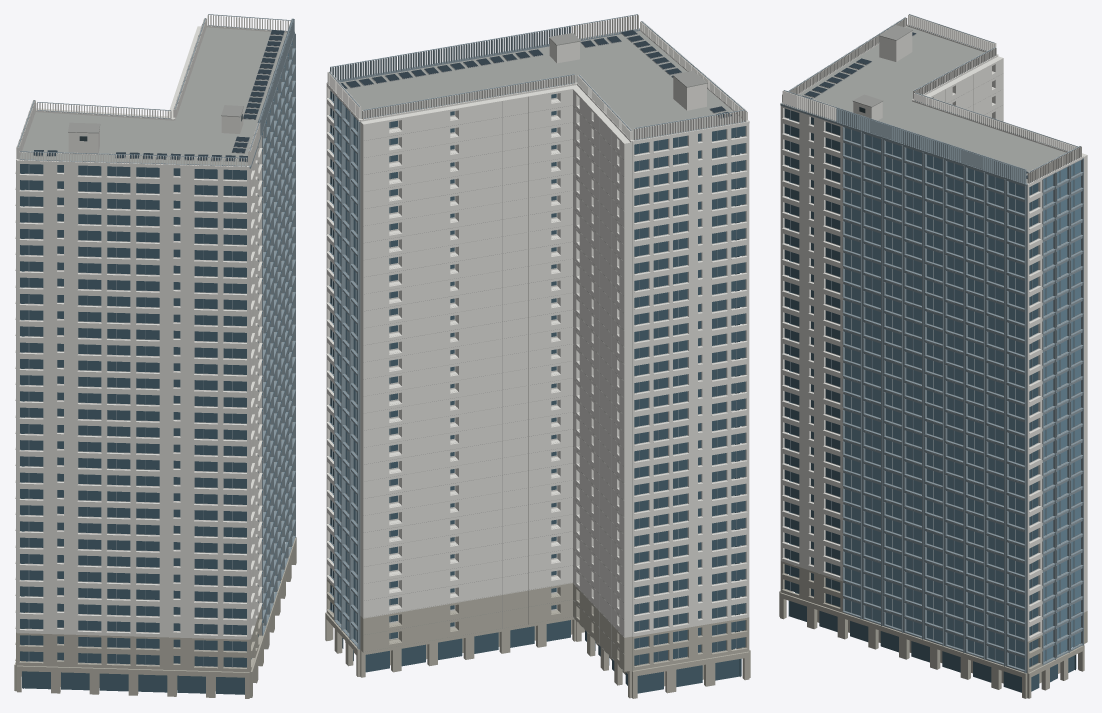
Rendered from bespoke-maple-xi-201.glb.
3 views of the same model, side by side, from view 1: azimuth 30°, elevation 25°; view 2: azimuth 150°, elevation 25°; view 3: azimuth 270°, elevation 25° (orthographic). The views are drawn at different scales.
Visible parts, largest first — view 1: Maple201_numbered_plan_inset_body, Maple201_e0_end_glass, Maple201_e0_end_unequal_sash, Maple201_numbered_plan_roof, Maple201_recessed_stone_lobby, Maple201_PV_cells, Maple201_e3_dark_glass, Maple201_PV_frame, Maple201_e1_cladding_joint; view 2: Maple201_numbered_plan_inset_body, Maple201_e0_end_glass, Maple201_e0_end_unequal_sash, Maple201_recessed_stone_lobby, Maple201_numbered_plan_roof, Maple201_e1_cladding_joint, Maple201_e3_dark_glass, Maple201_PV_cells, Maple201_PV_frame; view 3: Maple201_e0_end_unequal_sash, Maple201_e3_dark_glass, Maple201_numbered_plan_inset_body, Maple201_e0_end_glass, Maple201_numbered_plan_roof, Maple201_recessed_stone_lobby, Maple201_e1_cladding_joint, Maple201_PV_cells.
Boxes of the visible parts, x1,y1,x2,y2 form: Maple201_numbered_plan_inset_body: [15, 14, 292, 667]; Maple201_e0_end_glass: [20, 60, 289, 694]; Maple201_e0_end_unequal_sash: [17, 14, 295, 667]; Maple201_numbered_plan_roof: [19, 27, 286, 165]; Maple201_recessed_stone_lobby: [14, 520, 296, 698]; Maple201_PV_cells: [33, 30, 284, 161]; Maple201_e3_dark_glass: [262, 42, 292, 622]; Maple201_PV_frame: [33, 30, 284, 162]; Maple201_e1_cladding_joint: [68, 105, 243, 133]; Maple201_numbered_plan_inset_body: [326, 14, 749, 665]; Maple201_e0_end_glass: [330, 90, 745, 693]; Maple201_e0_end_unequal_sash: [327, 14, 746, 664]; Maple201_recessed_stone_lobby: [325, 578, 750, 698]; Maple201_numbered_plan_roof: [339, 31, 744, 140]; Maple201_e1_cladding_joint: [363, 33, 707, 670]; Maple201_e3_dark_glass: [329, 98, 357, 642]; Maple201_PV_cells: [340, 30, 731, 117]; Maple201_PV_frame: [344, 32, 731, 118]; Maple201_e0_end_unequal_sash: [780, 14, 1083, 673]; Maple201_e3_dark_glass: [845, 127, 1080, 669]; Maple201_numbered_plan_inset_body: [780, 14, 1087, 653]; Maple201_e0_end_glass: [784, 108, 1076, 692]; Maple201_numbered_plan_roof: [799, 26, 1065, 183]; Maple201_recessed_stone_lobby: [779, 558, 1087, 698]; Maple201_e1_cladding_joint: [843, 25, 1082, 671]; Maple201_PV_cells: [802, 32, 1028, 178].
Bounding box in the file's own units: 66.08 × 102 × 53.27.
